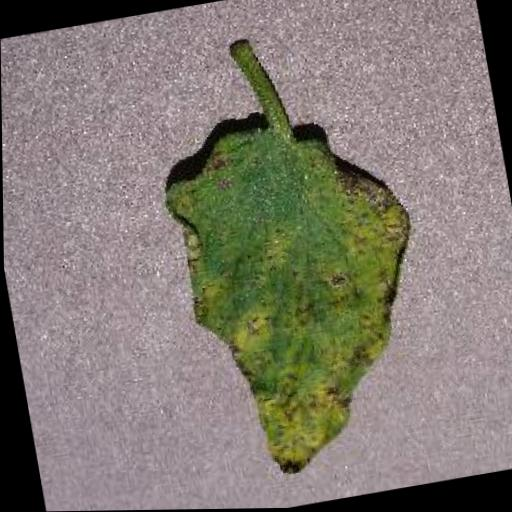Septoria: (149, 97, 442, 487)
